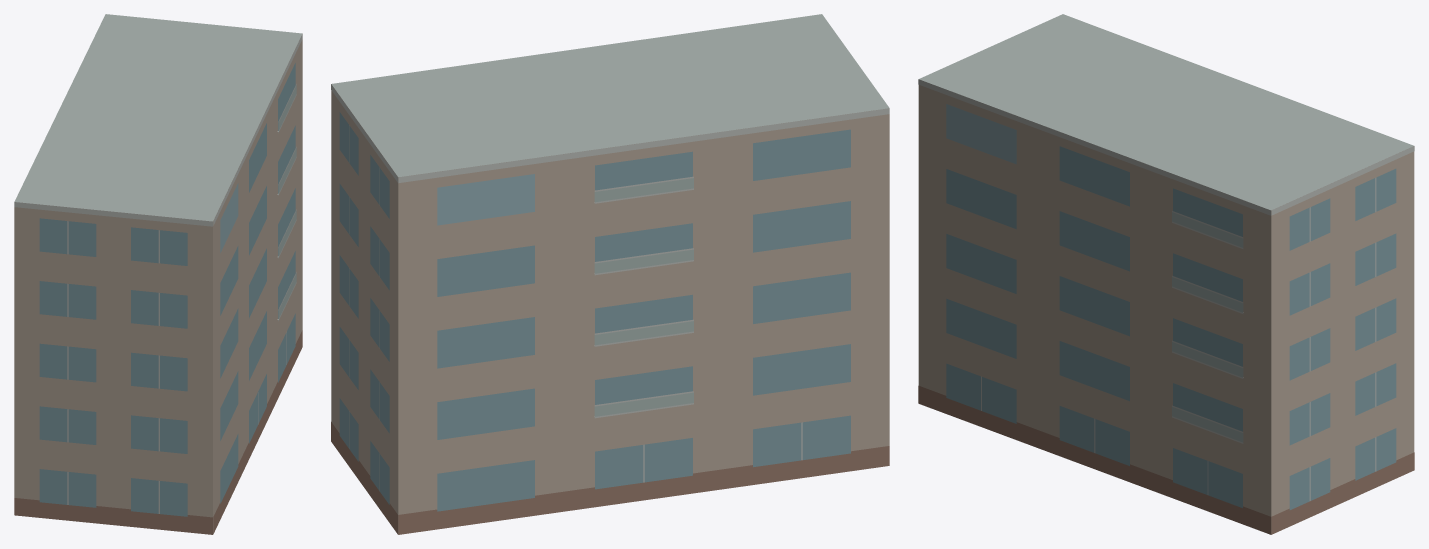
File: survey-upis-32526017.glb
The picture shows the model from 3 angles, left to right: view 1: azimuth 30°, elevation 25°; view 2: azimuth 150°, elevation 25°; view 3: azimuth 270°, elevation 25°; orthographic projection. The views are drawn at different scales.
Visible parts, largest first — view 1: survey-upis-32526017.tmp; view 2: survey-upis-32526017.tmp; view 3: survey-upis-32526017.tmp.
Boxes of the visible parts, left/top/right/bottom form: survey-upis-32526017.tmp: left=14, top=14, right=302, bottom=534; survey-upis-32526017.tmp: left=331, top=14, right=889, bottom=534; survey-upis-32526017.tmp: left=918, top=14, right=1414, bottom=534.
Bounding box in the file's own units: 19.1 × 14.7 × 20.37.
